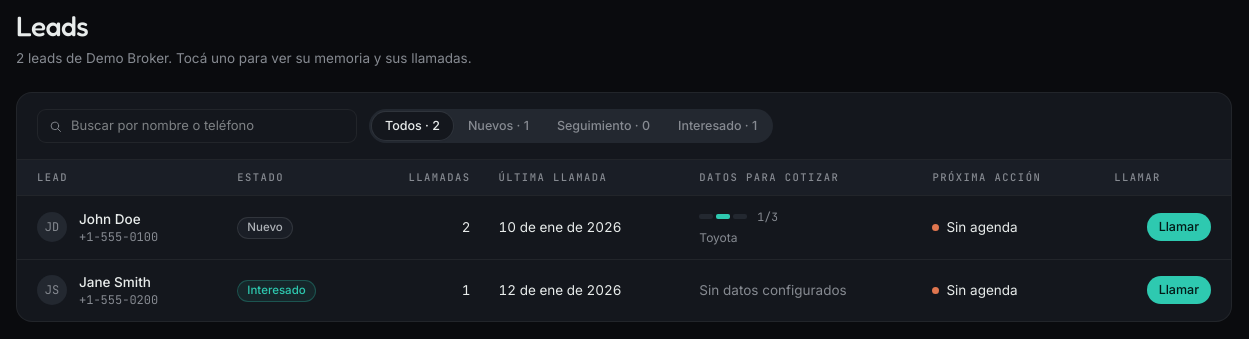
Test: LeadsPage — status filter (Seg) with real counts › filtering by Nuevos hides non-new leads
Expected: the text "John Doe" is shown, [79,211,141,227]
What coordinates should you click on to do the following:
click the radio button "Nuevos · 1"
I would click on:
 (498, 126)
Its box is [455,112,542,140].
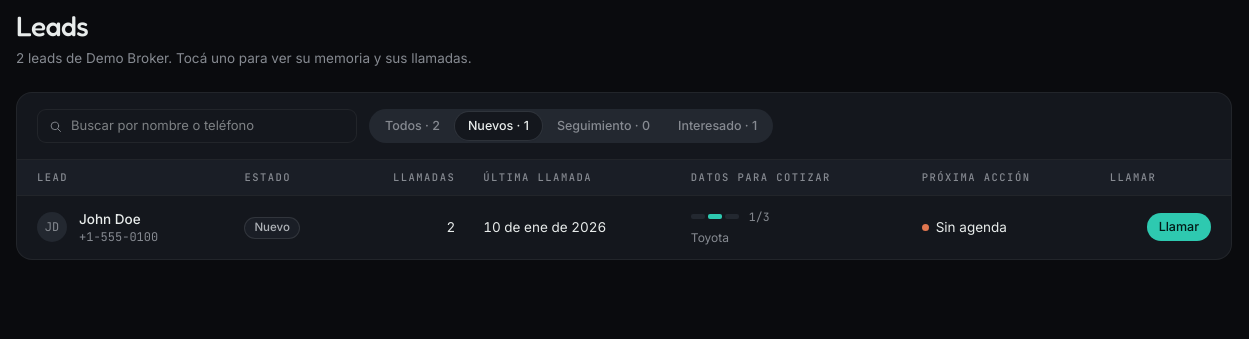
Expected: the text "John Doe" is shown, [79,211,141,227]
Now the text "Jane Smith" is gone
